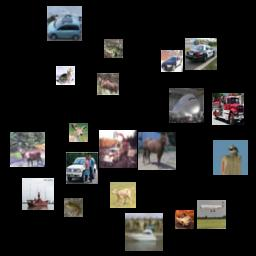airplane: (169, 88, 204, 123), (197, 200, 226, 229)
automobile: (47, 6, 82, 41), (185, 38, 217, 70), (66, 152, 98, 184), (161, 50, 183, 72), (175, 210, 194, 229)
bird: (213, 140, 248, 175)
cat: (56, 66, 75, 85)
deer: (10, 132, 45, 167), (97, 73, 119, 95), (69, 123, 88, 142)
dog: (110, 182, 136, 208)
frog: (104, 39, 123, 58), (64, 198, 83, 217)
ship: (125, 213, 163, 251), (22, 178, 54, 210)
truck: (99, 130, 137, 168), (212, 93, 244, 125)
